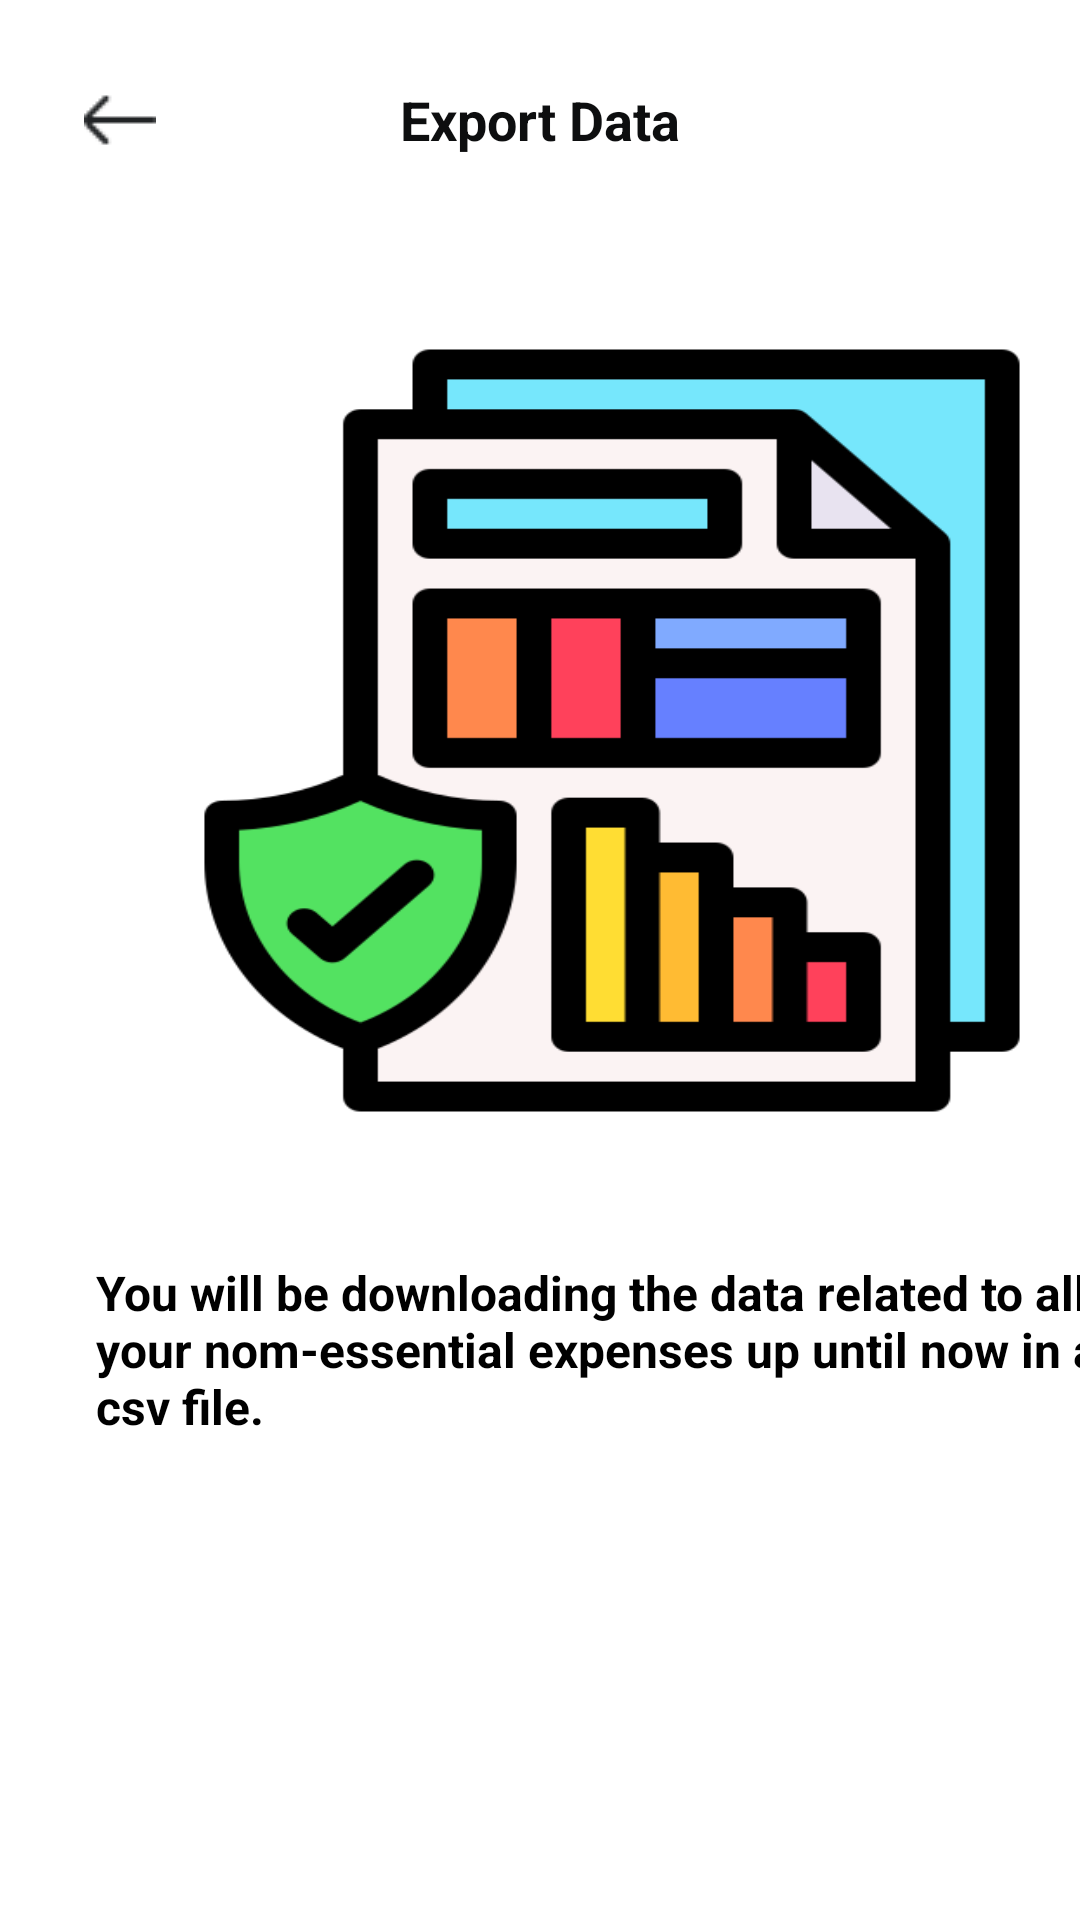

Icon click points for this 1080x1920 phone screenshot, format (x,y):
back arrow: (120,120)
